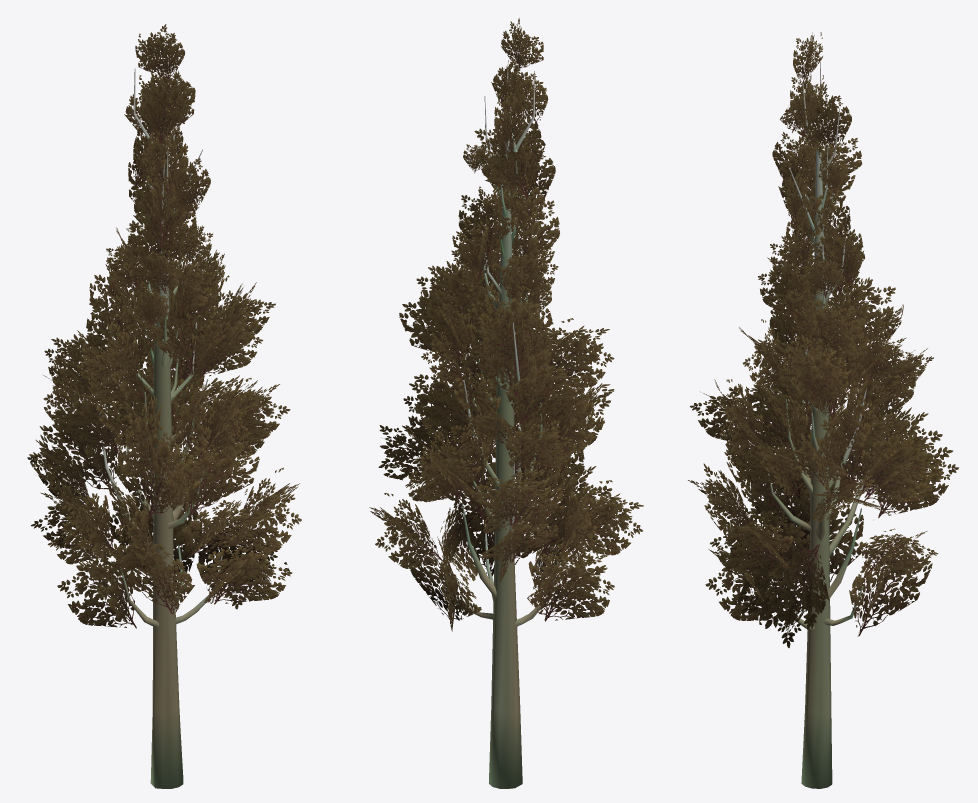
The model's file is NX-E-Bishan-Shu01.FBX.
3 views of the same model, side by side, from view 1: azimuth 30°, elevation 25°; view 2: azimuth 150°, elevation 25°; view 3: azimuth 270°, elevation 25° (orthographic). The views are drawn at different scales.
Parts seen in each view (by area): view 1: NX-E-Bishan-Shu01; view 2: NX-E-Bishan-Shu01; view 3: NX-E-Bishan-Shu01.
Part boxes in pixels (box(x1,y1,x2,y2)): NX-E-Bishan-Shu01: box(27, 24, 301, 788); NX-E-Bishan-Shu01: box(369, 18, 643, 788); NX-E-Bishan-Shu01: box(688, 32, 958, 788).
Bounding box in the file's own units: 22.56 × 64.68 × 21.83.
